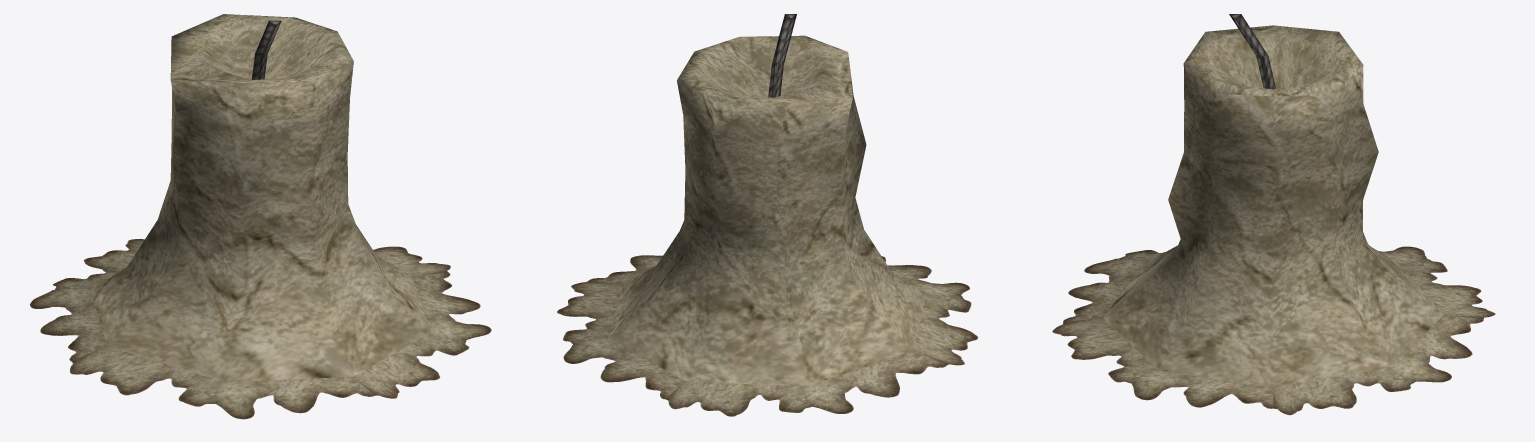
File: candle_floor.dae
The picture shows the model from 3 angles, left to right: view 1: azimuth 30°, elevation 25°; view 2: azimuth 150°, elevation 25°; view 3: azimuth 270°, elevation 25°; orthographic projection. The views are drawn at different scales.
Visible parts, largest first — view 1: polySurface1; view 2: polySurface1; view 3: polySurface1.
Part boxes in pixels (box(x1,y1,x2,y2)): polySurface1: box(30, 14, 491, 419); polySurface1: box(557, 14, 978, 416); polySurface1: box(1052, 14, 1495, 415).
Size of the model in its own units: 0.4803 by 0.3266 by 0.4786.
